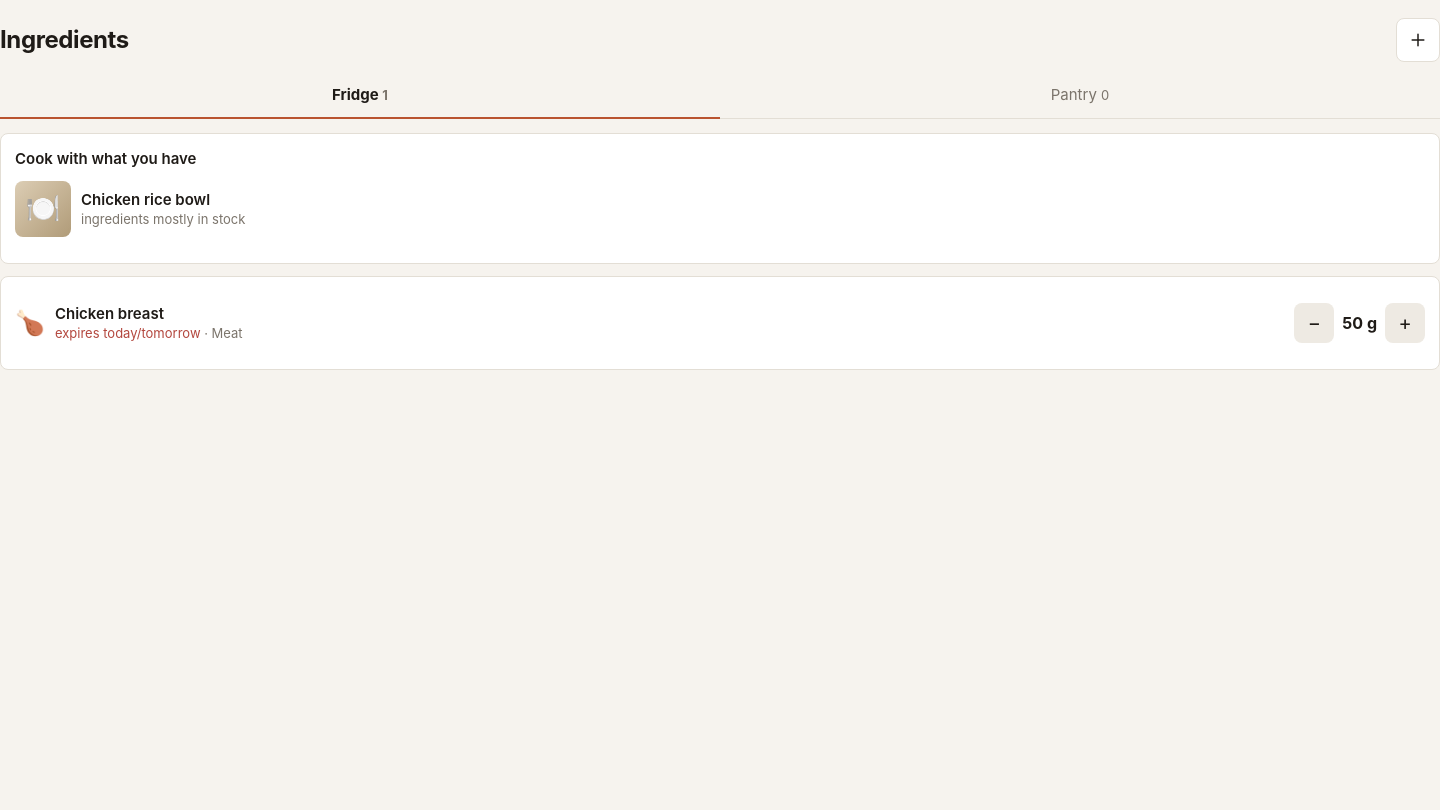
Test: IngredientsPage › asks before removing the last 50 g and puts it on the shopping list
Click the button named "Less Chicken breast" at (1314, 323), box [1294,303,1334,343]
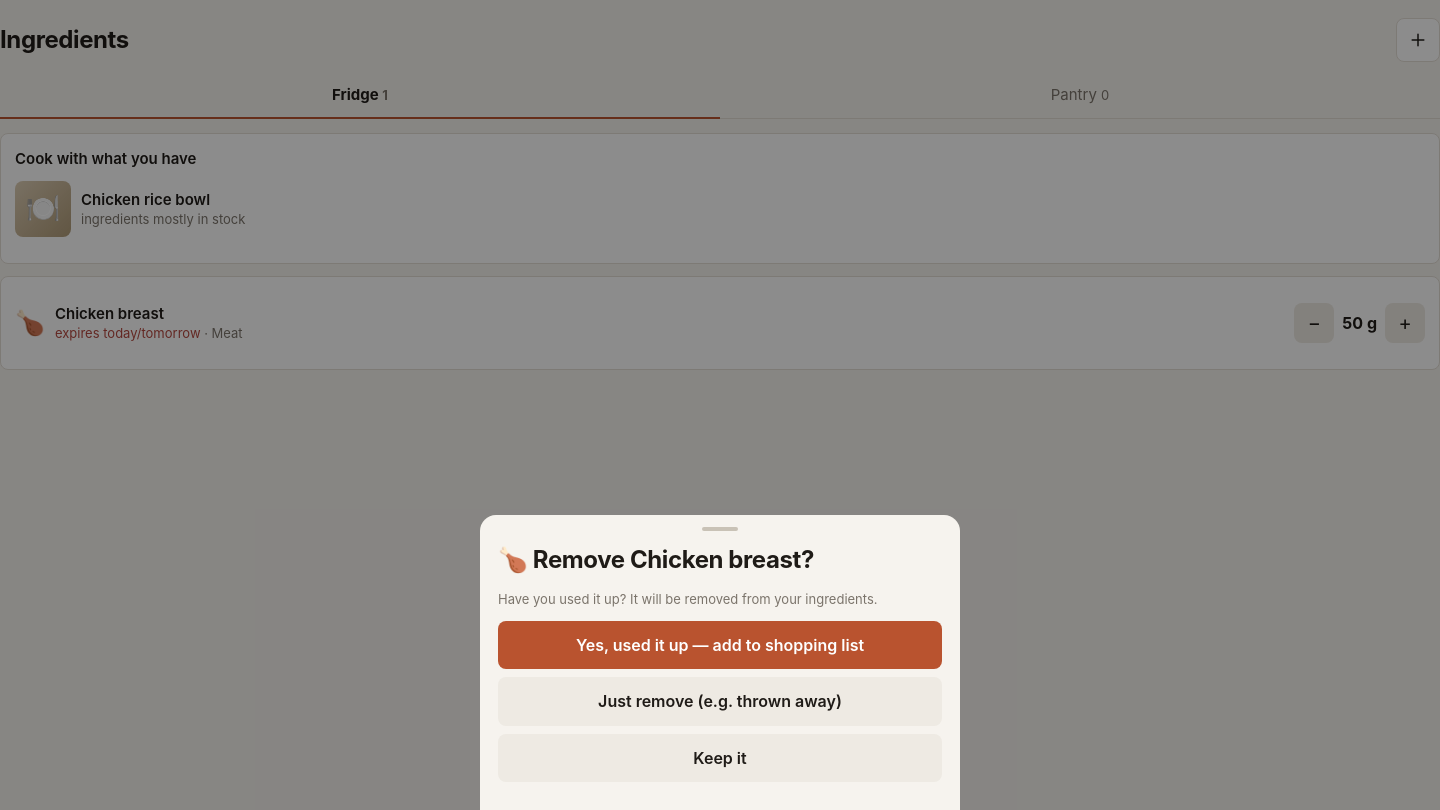
Click the button "Yes, used it up — add to shopping list" at (720, 645), box [498,621,942,669]
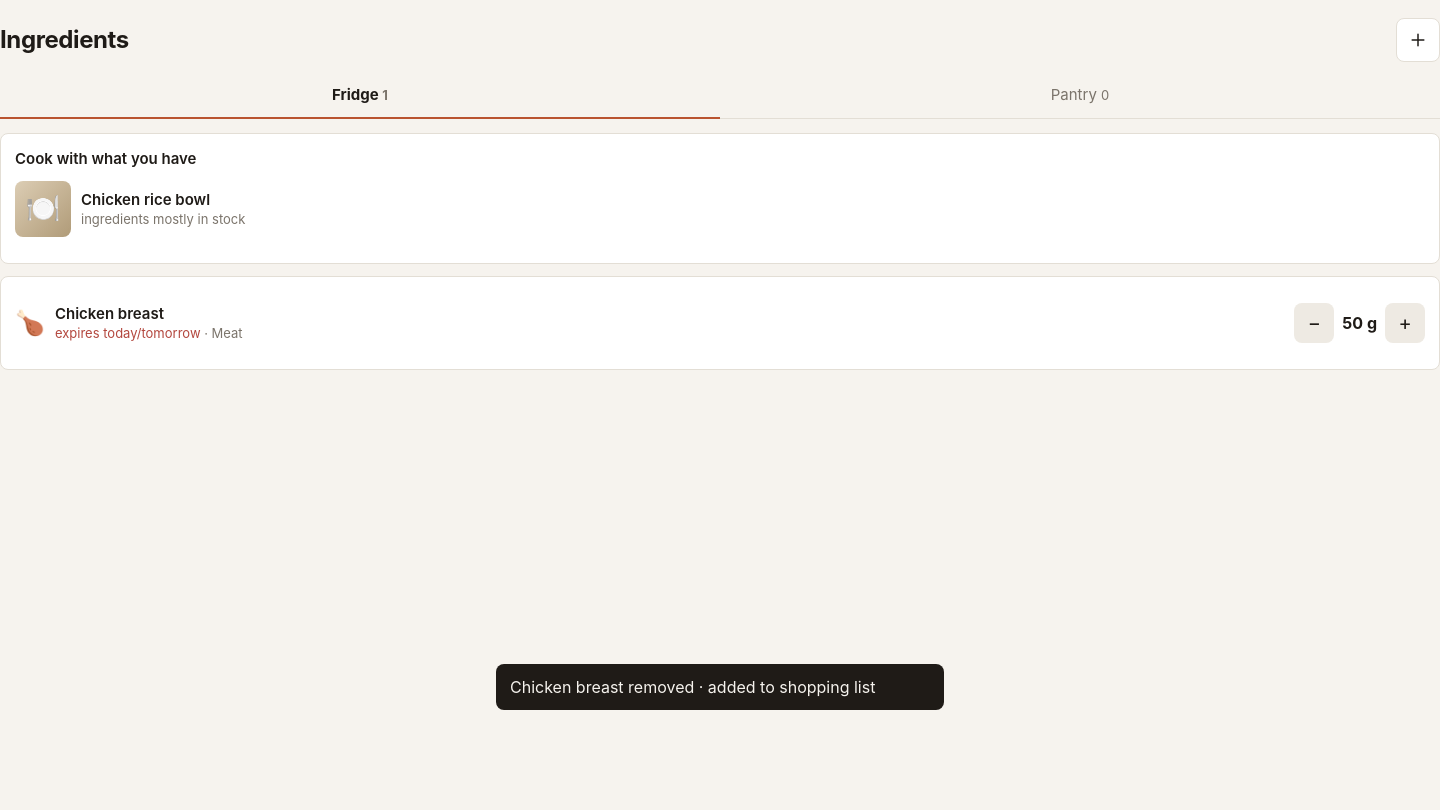
Now the text "Chicken breast removed · added to shopping list" is shown, box [510,676,930,698]
